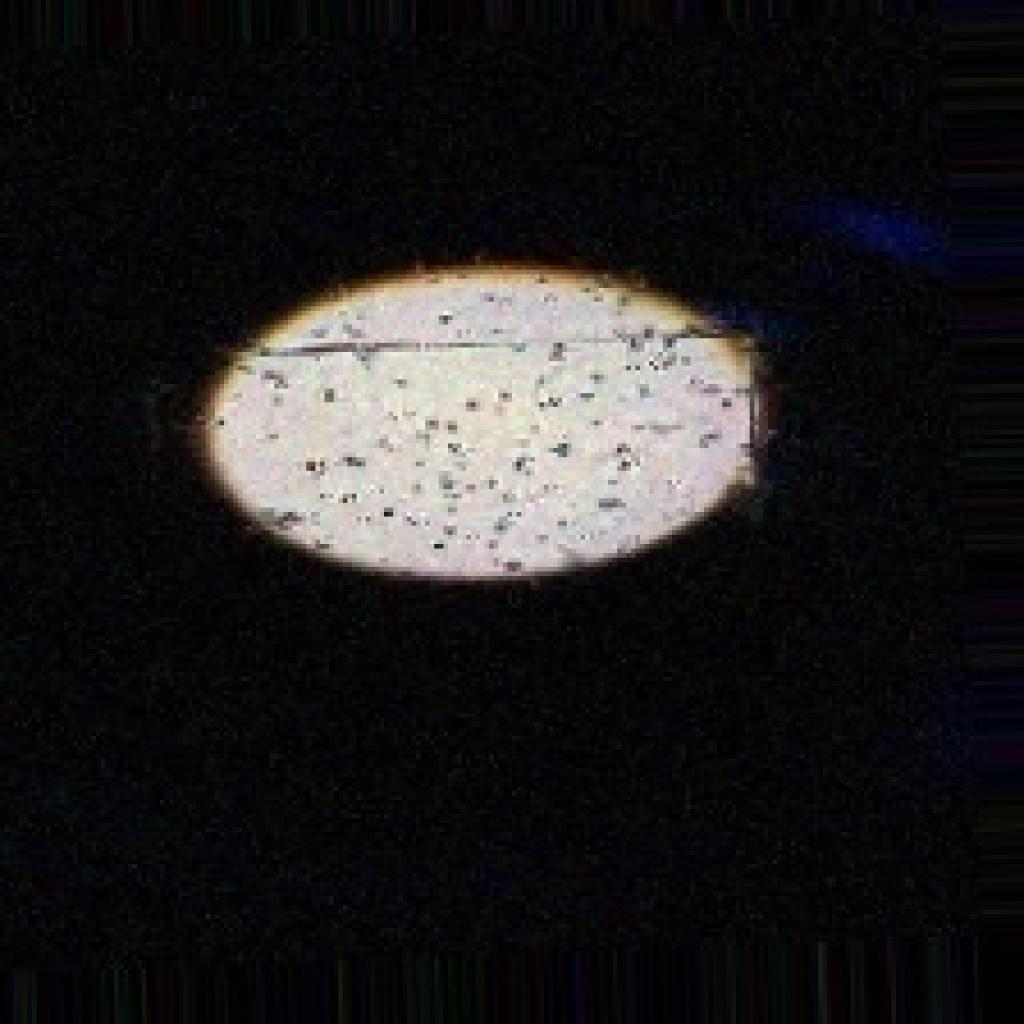Yeast: (192, 256, 773, 585)
